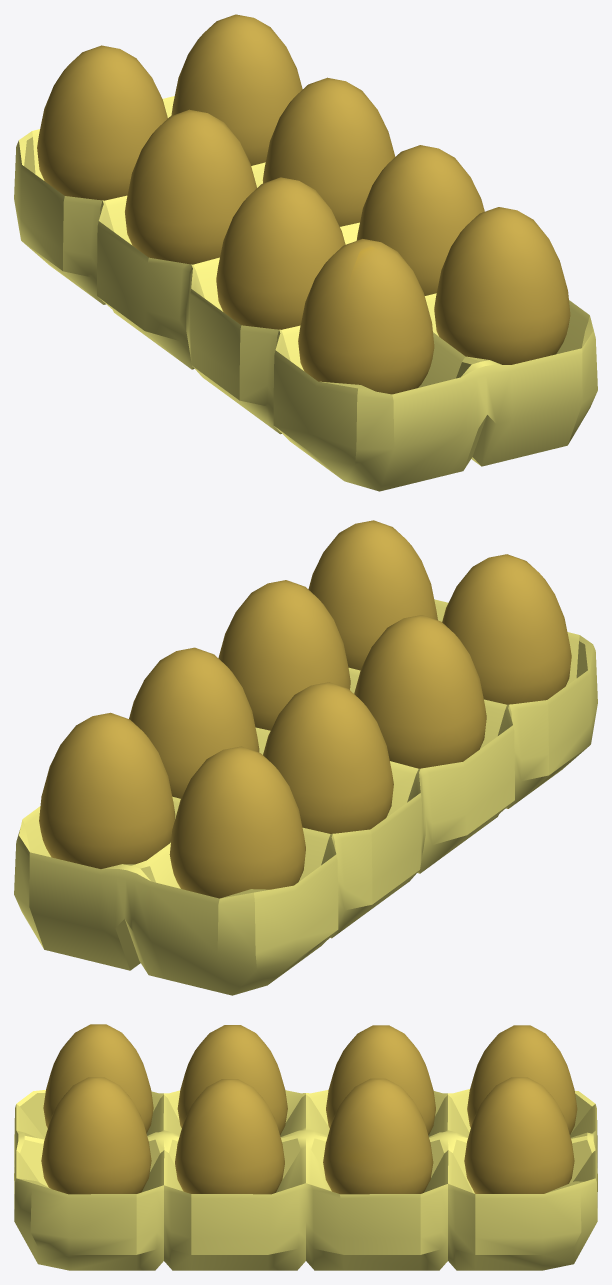
Rendered from Eggs2.fbx.
The picture shows the model from 3 angles, top to bottom: view 1: azimuth 30°, elevation 25°; view 2: azimuth 150°, elevation 25°; view 3: azimuth 270°, elevation 25°; orthographic projection. The views are drawn at different scales.
Parts seen in each view (by area): view 1: Eggs; view 2: Eggs; view 3: Eggs.
Boxes of the visible parts, x1,y1,x2,y2 form: Eggs: (14, 14, 597, 491); Eggs: (14, 520, 597, 995); Eggs: (14, 1024, 597, 1270).
Bounding box in the file's own units: 200 × 150 × 457.
Materials: 1 (1 with a texture image).
